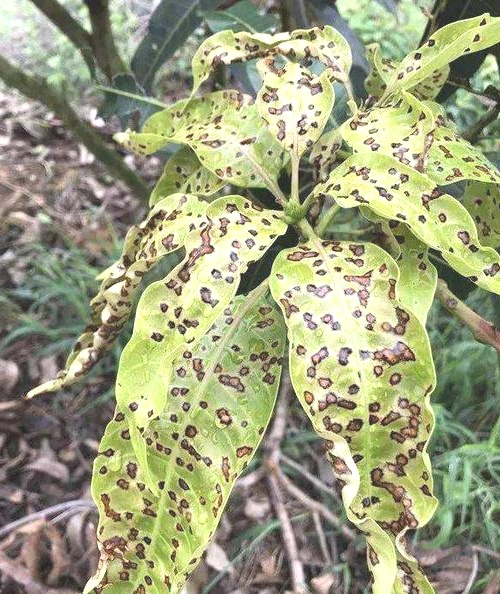Anthracnose: (75, 258, 292, 567), (300, 248, 471, 541), (295, 39, 466, 234), (152, 48, 274, 253)
